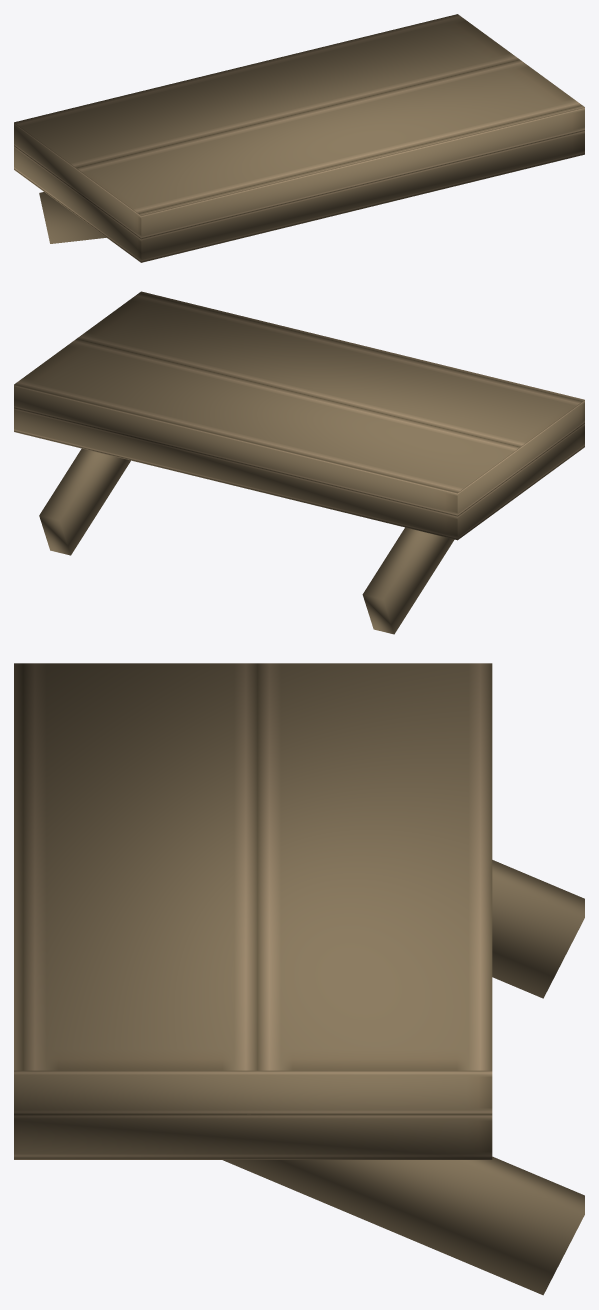
Rendered from tablette.fbx.
3 renders of one model, top to bottom at view 1: azimuth 30°, elevation 25°; view 2: azimuth 150°, elevation 25°; view 3: azimuth 270°, elevation 25°, orthographic. The views are drawn at different scales.
Visible parts, largest first — view 1: Tablette; view 2: Tablette; view 3: Tablette.
Part boxes in pixels (bbox=[...]): Tablette: bbox=[14, 14, 584, 262]; Tablette: bbox=[14, 291, 584, 634]; Tablette: bbox=[14, 663, 584, 1295].
Bounding box in the file's own units: 403 × 125 × 239.
1 material, 1 textured.
